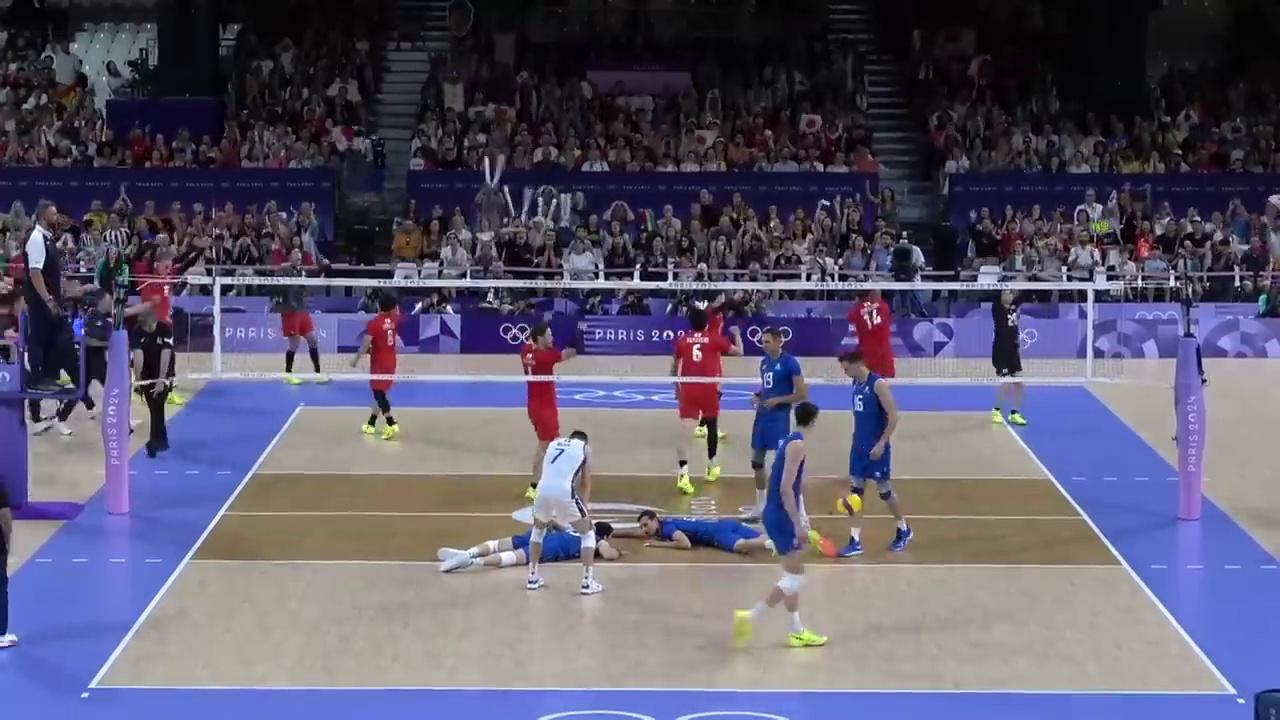ball: (838, 492, 861, 517)
